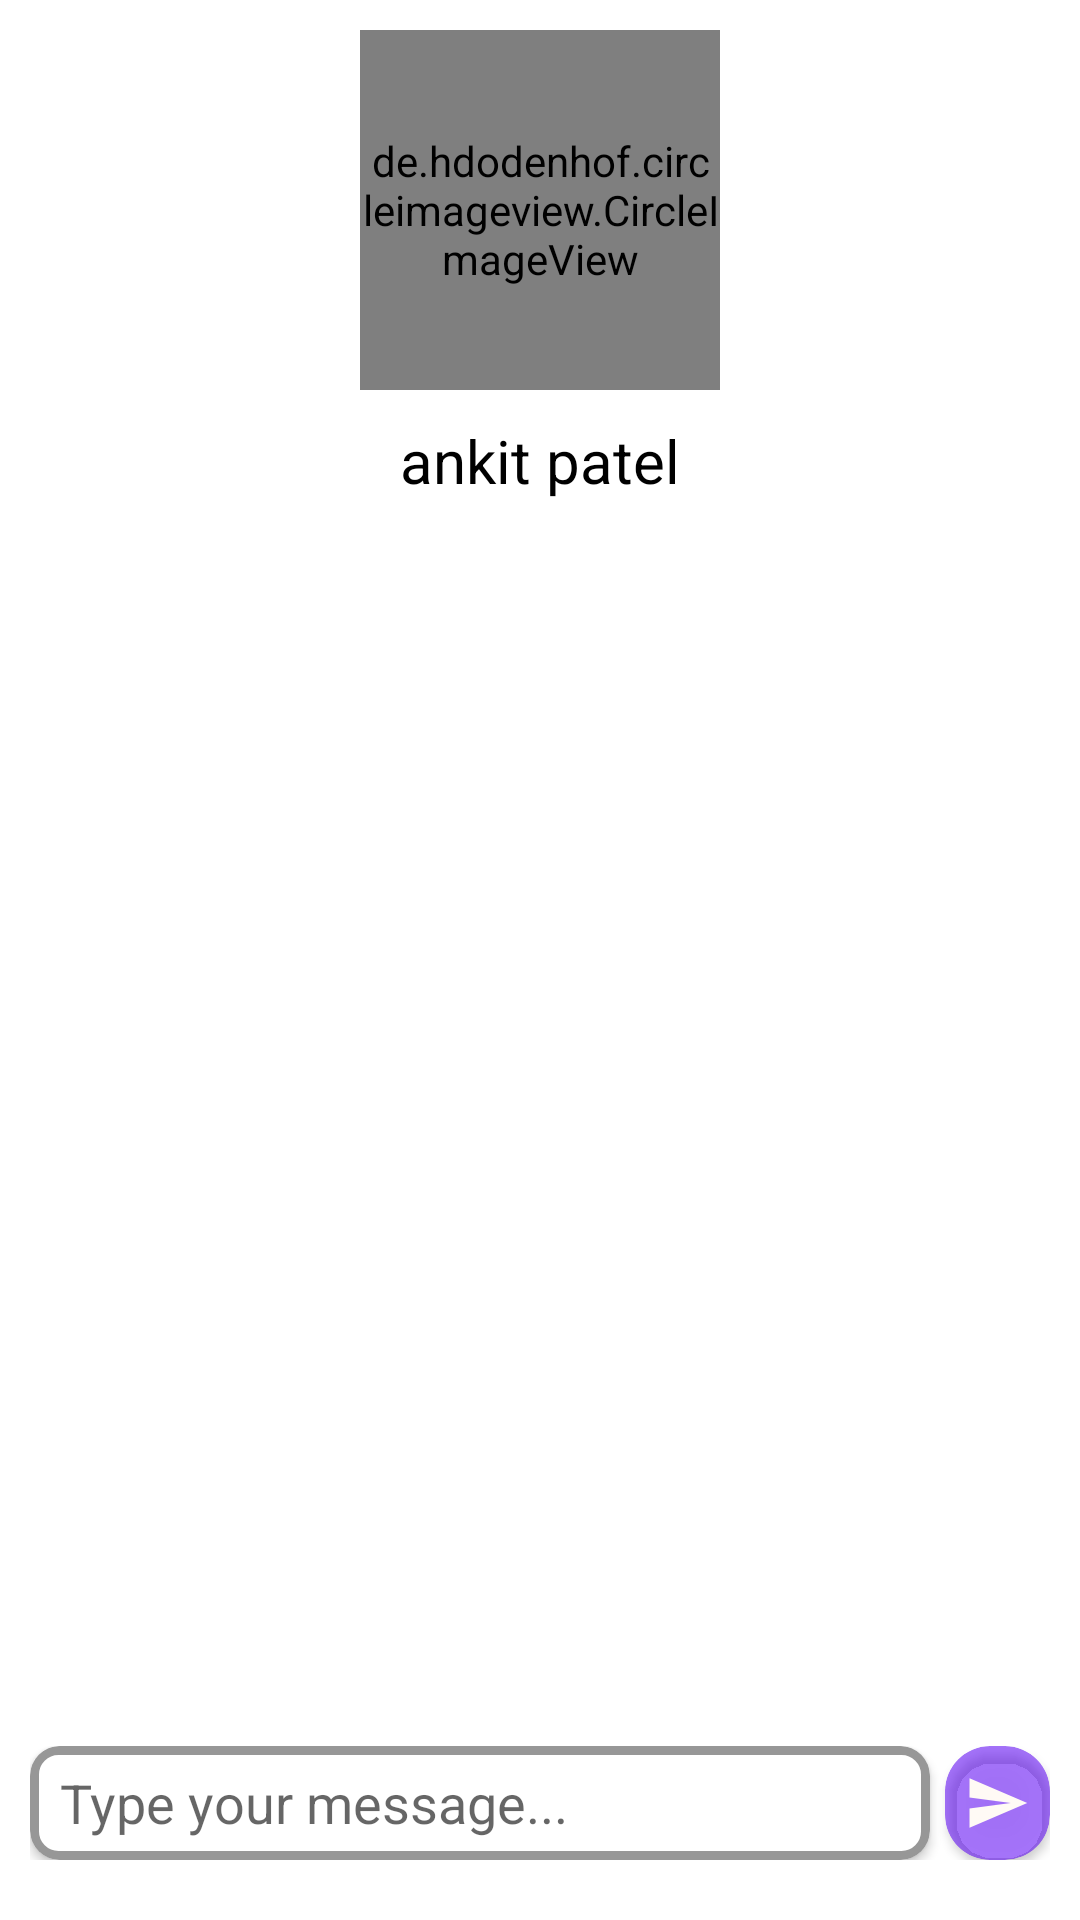

Icon click points for this 1080w x 1920h phone screenshot, format [x,y]:
send: [998,1803]
